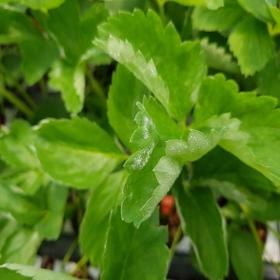Powdery Mildew Leaf: (120, 94, 229, 229), (92, 8, 208, 125)
